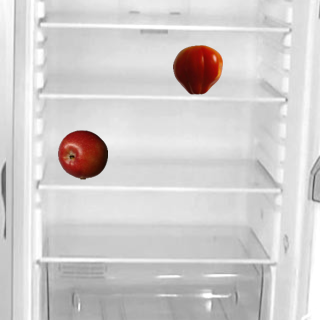Apple Braeburn: (57, 129, 107, 179)
Tomato 1: (172, 44, 222, 94)
